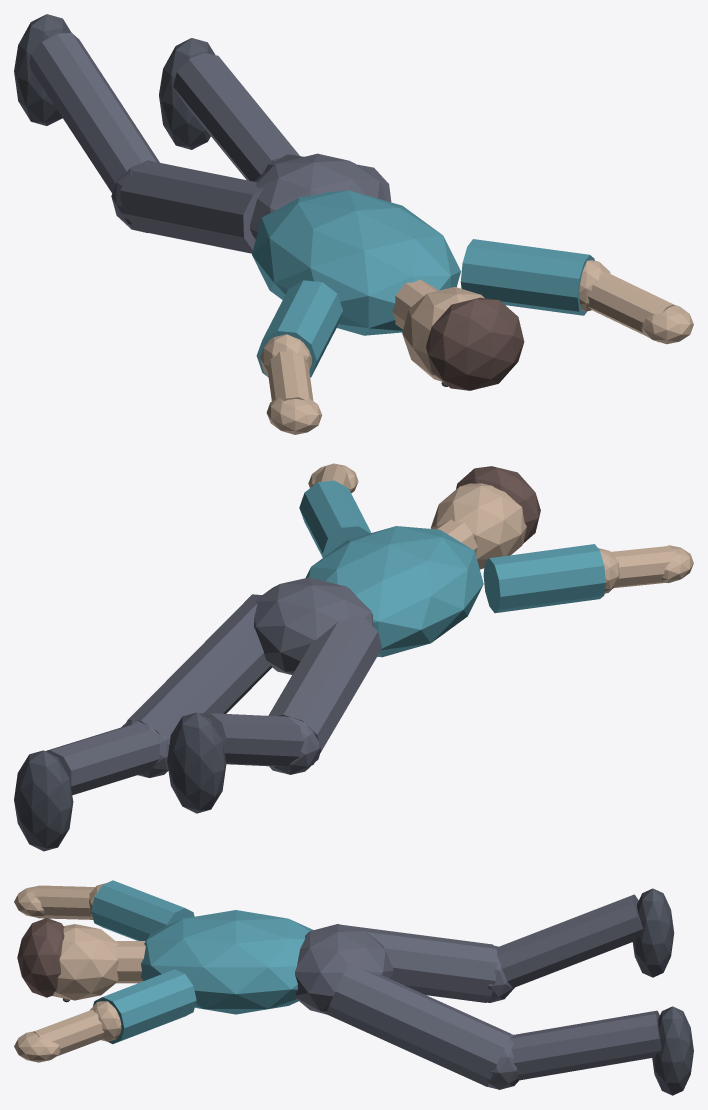
3 renders of one model, top to bottom at view 1: azimuth 30°, elevation 25°; view 2: azimuth 150°, elevation 25°; view 3: azimuth 270°, elevation 25°, orthographic. The views are drawn at different scales.
Parts seen in each view (by area): view 1: world; view 2: world; view 3: world.
Part boxes in pixels (x1,y1,x2,y2): world: (14,14,693,434); world: (14,463,693,851); world: (14,880,693,1095).
Size of the model in its own units: 1.17 by 0.4905 by 2.07.
